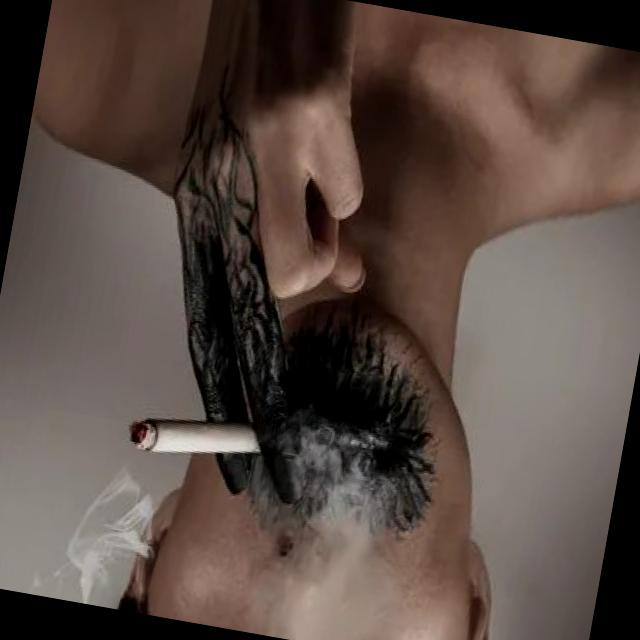cigarette: (124, 387, 274, 476)
